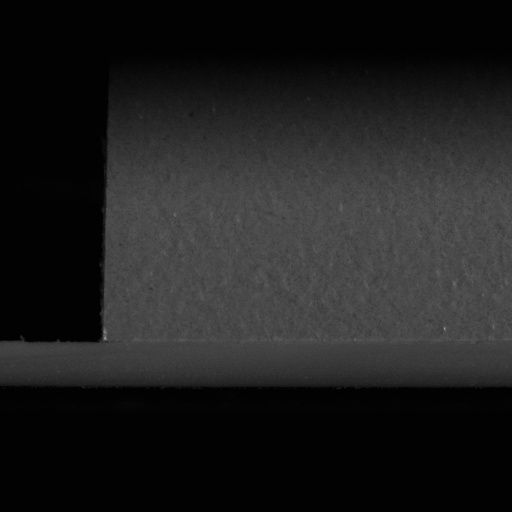changdai: (0, 337, 105, 392)
